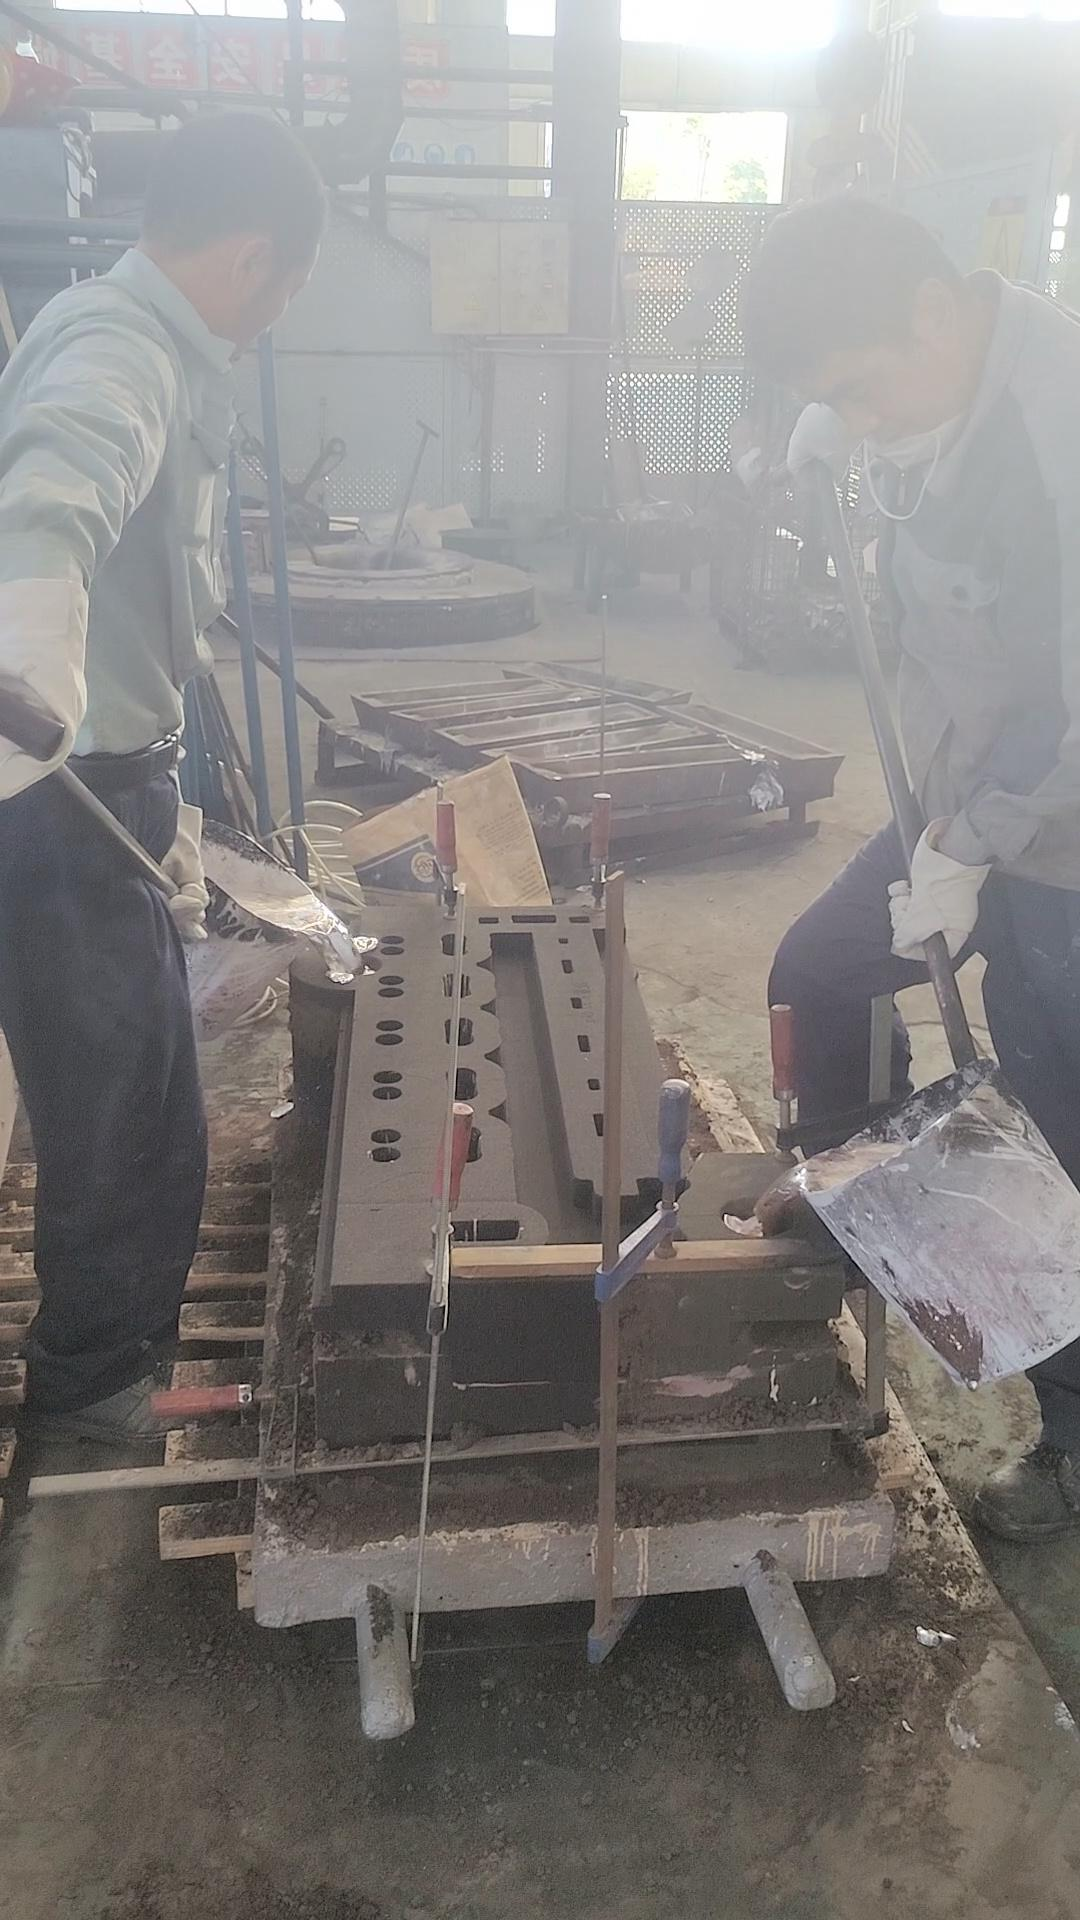pouring hole: (717, 1197, 799, 1240), (324, 953, 382, 977)
